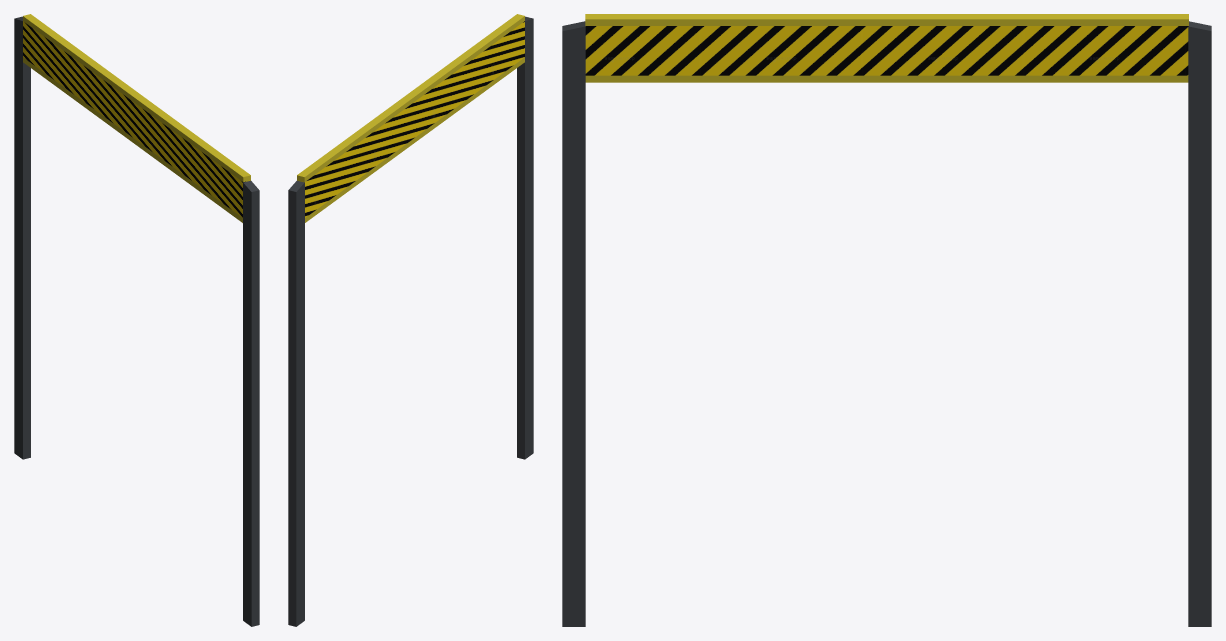
File: gecis_ince_olan.fbx
3 renders of one model, left to right at view 1: azimuth 30°, elevation 25°; view 2: azimuth 150°, elevation 25°; view 3: azimuth 270°, elevation 25°, orthographic. The views are drawn at different scales.
Parts seen in each view (by area): view 1: Cube.003; view 2: Cube.003; view 3: Cube.003.
Part boxes in pixels (bbox=[...]): Cube.003: bbox=[14, 14, 259, 626]; Cube.003: bbox=[288, 14, 533, 626]; Cube.003: bbox=[562, 14, 1211, 626].
Size of the model in its own units: 16.94 by 906 by 878.
Materials: 3 (1 with a texture image).
